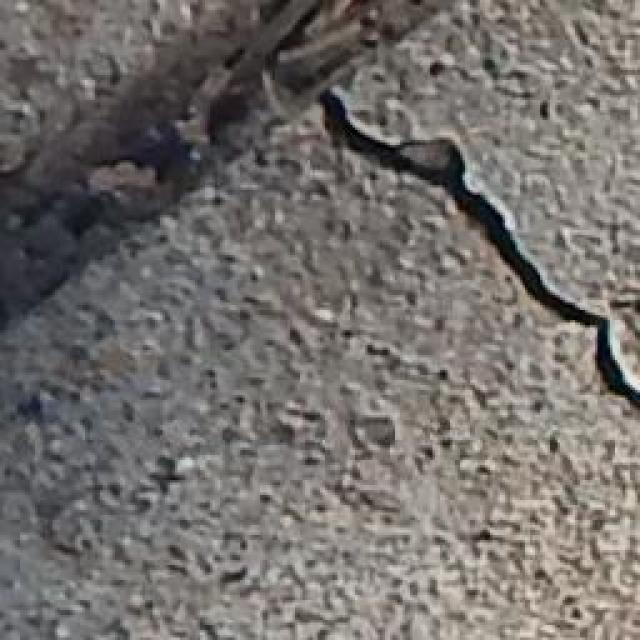concrete-crack: (0, 0, 640, 420)
